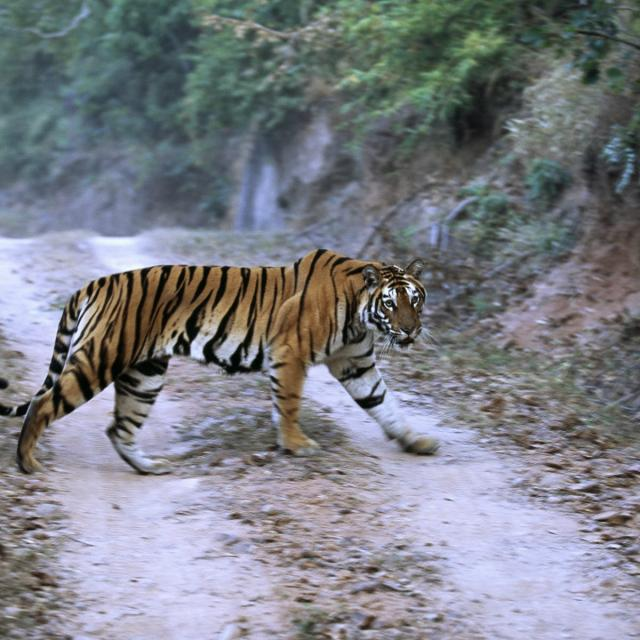tiger: (1, 249, 438, 475)
